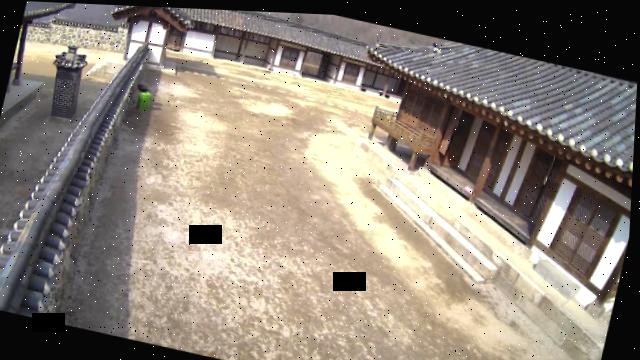bag: (137, 87, 157, 112)
